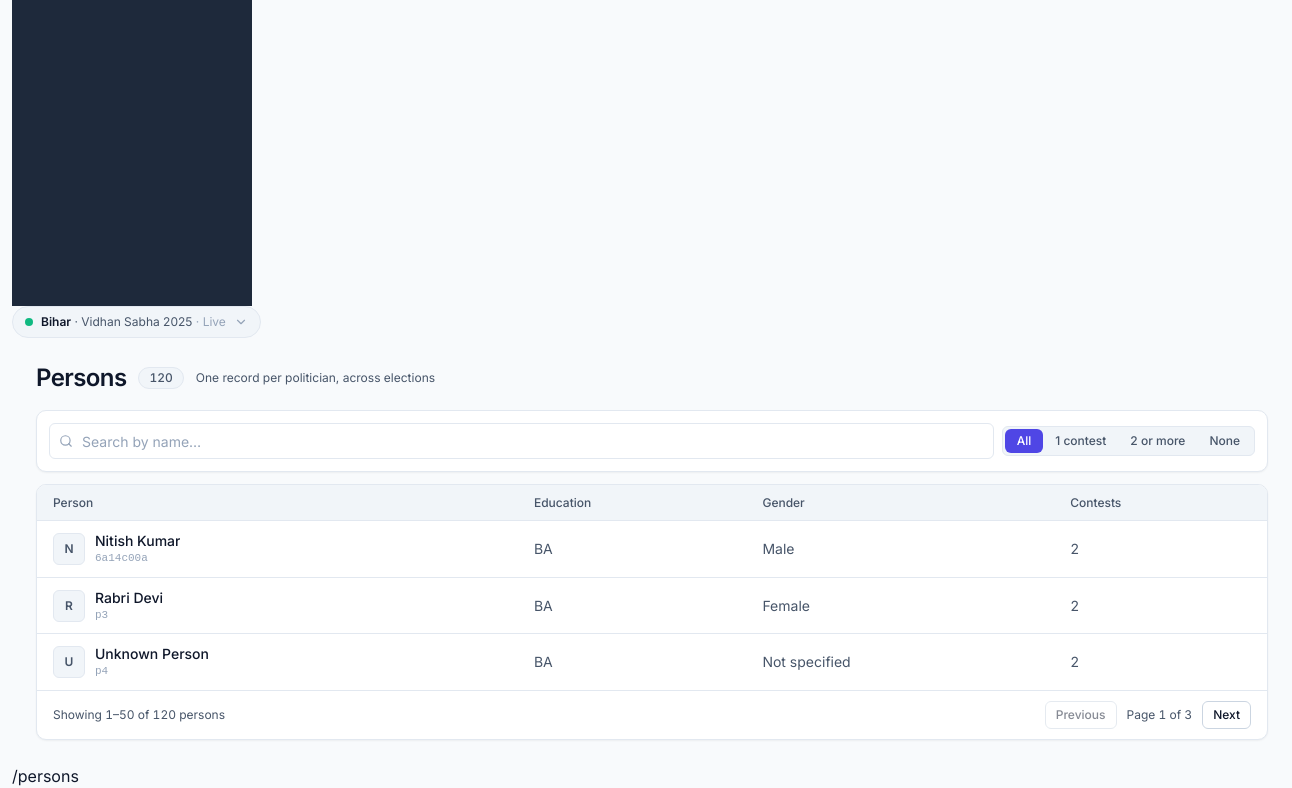
Persons list › pages through persons
The width and height of the screenshot is (1292, 788).
(page scrolled)
expect the text "Nitish Kumar" is shown: met, box [95, 531, 180, 551]
Click the button "Next". click: (1227, 715)
box: [1202, 701, 1251, 729]
(page scrolled)
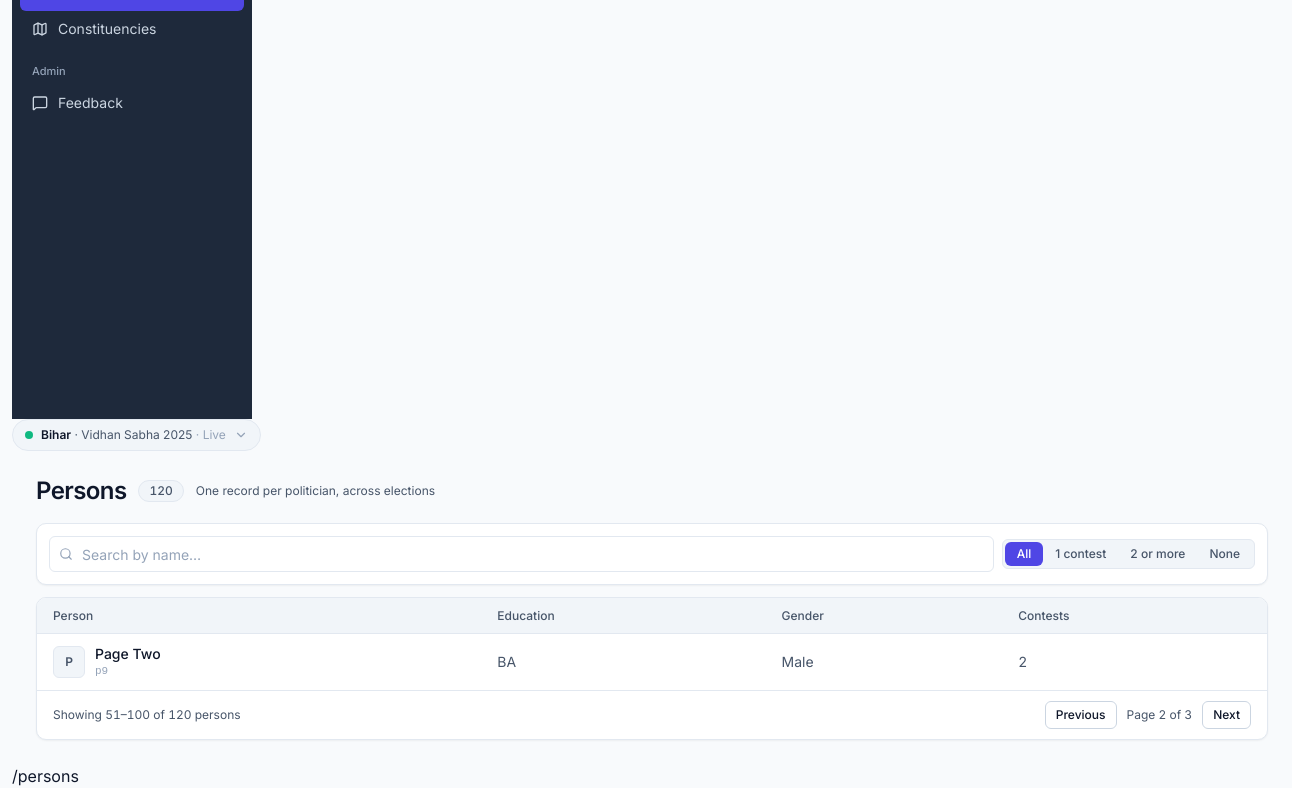
expect the text "Page Two" is shown: met, box [95, 644, 161, 664]
